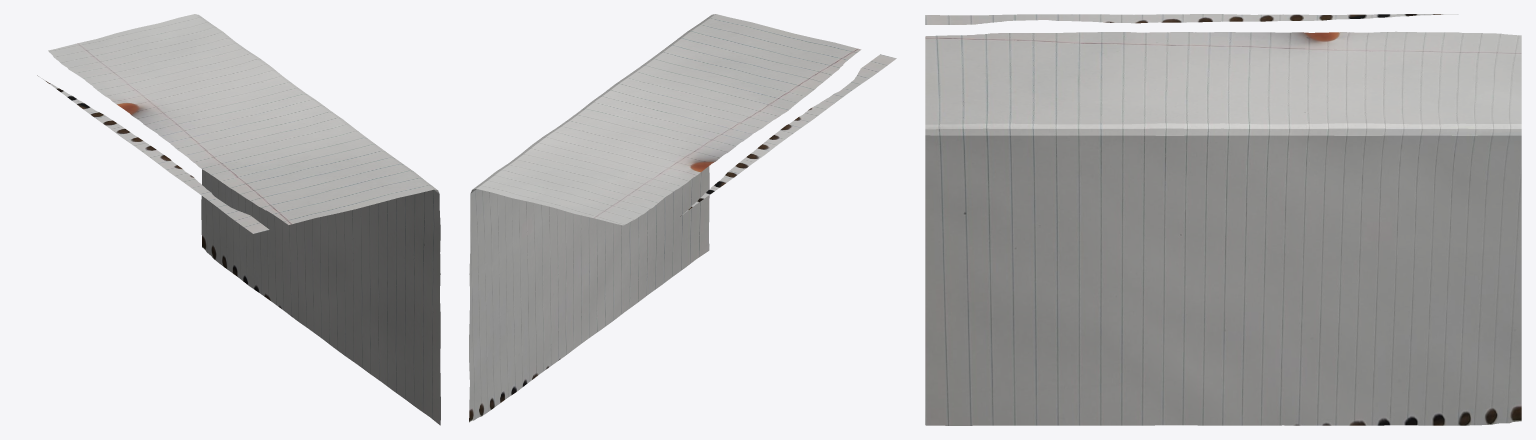
Rendered from Afloop.fbx.
The picture shows the model from 3 angles, left to right: view 1: azimuth 30°, elevation 25°; view 2: azimuth 150°, elevation 25°; view 3: azimuth 270°, elevation 25°; orthographic projection. The views are drawn at different scales.
Visible parts, largest first — view 1: Plane; view 2: Plane; view 3: Plane.
Part boxes in pixels (left/top/right/bottom): Plane: left=37, top=14, right=440, bottom=425; Plane: left=469, top=14, right=896, bottom=422; Plane: left=925, top=14, right=1521, bottom=425.
Size of the model in its own units: 182 by 221 by 400.
Materials: 1 (1 with a texture image).
